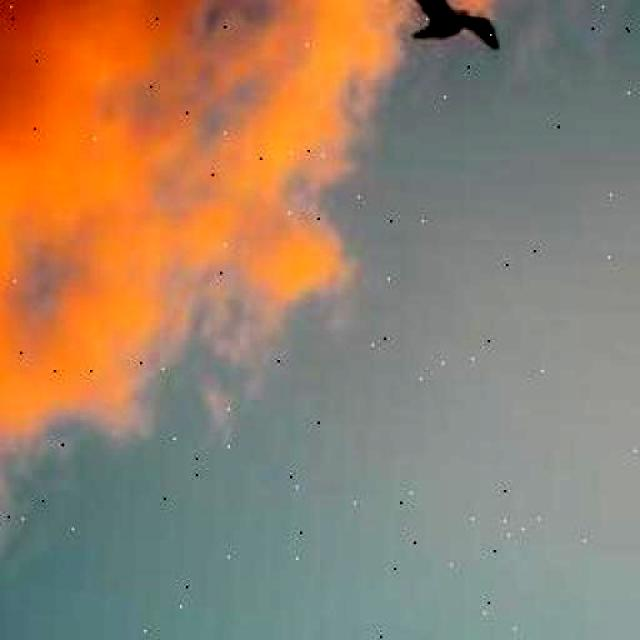airplane: (382, 0, 504, 51)
